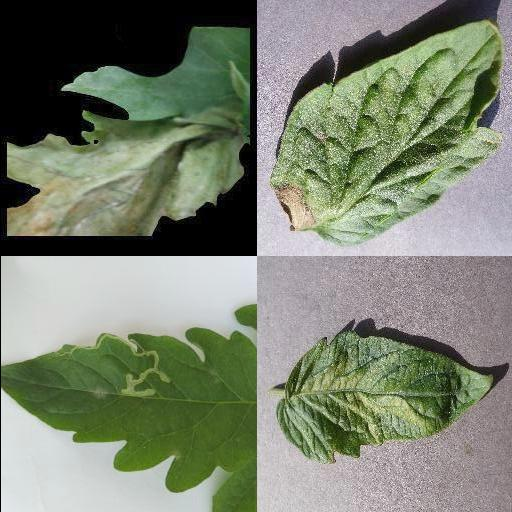Late Blight: (266, 20, 504, 250), (5, 27, 247, 235)
Leaf Miner: (0, 326, 256, 492)
Spider Mites: (274, 331, 492, 463)
